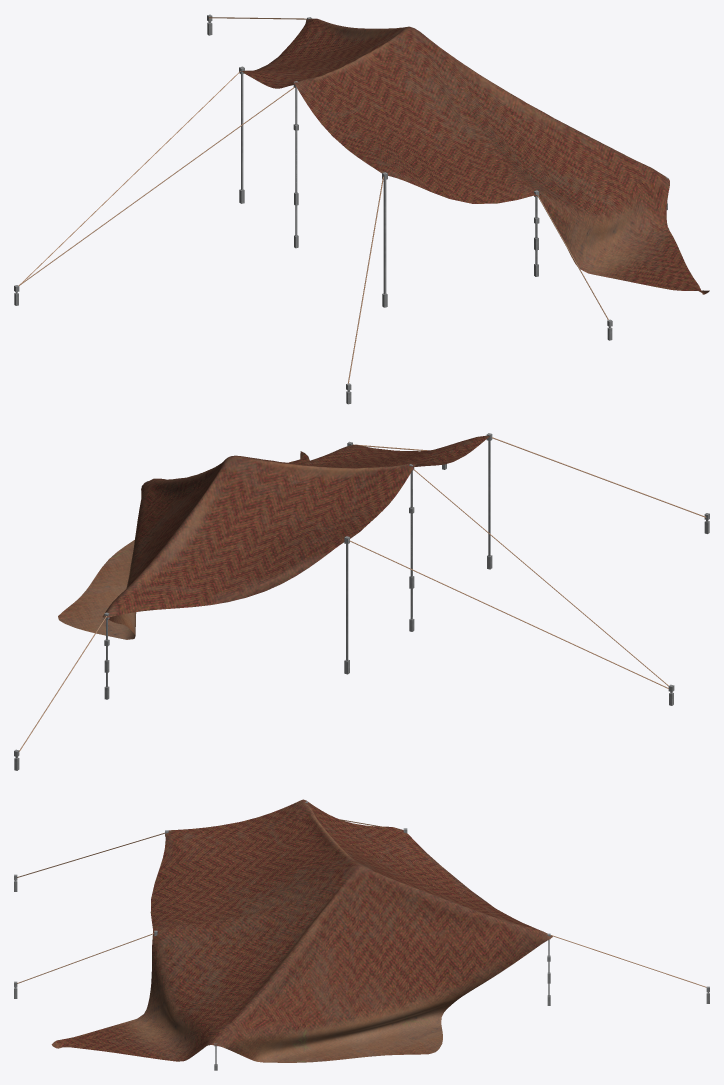
Rendered from military_tent.glb.
3 renders of one model, top to bottom at view 1: azimuth 30°, elevation 25°; view 2: azimuth 150°, elevation 25°; view 3: azimuth 270°, elevation 25°, orthographic. The views are drawn at different scales.
Visible parts, largest first — view 1: GT_ES_Fabrics_3; view 2: GT_ES_Fabrics_3; view 3: GT_ES_Fabrics_3.
Part boxes in pixels (x1,y1,x2,y2): GT_ES_Fabrics_3: [14, 14, 709, 404]; GT_ES_Fabrics_3: [14, 433, 709, 770]; GT_ES_Fabrics_3: [14, 799, 709, 1070].
Size of the model in its own units: 11.89 by 3.25 by 14.48.
Materials: 1 (1 with a texture image).
